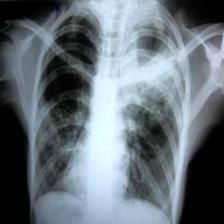tuberculosis: (23, 1, 188, 224)
